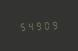five: (18, 21, 25, 31)
four: (26, 20, 33, 31)
nine: (50, 19, 57, 30), (34, 20, 41, 30)
zero: (42, 19, 49, 30)
